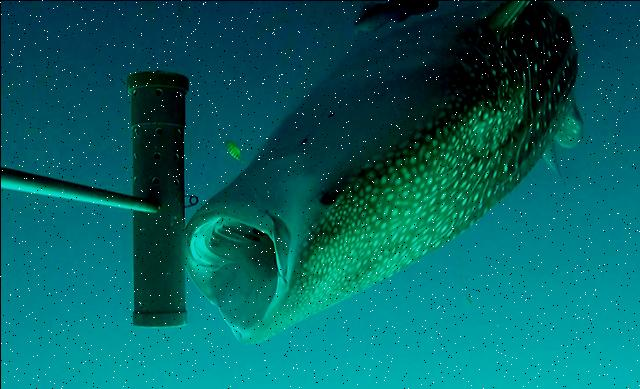Mulut: (164, 172, 312, 366)
